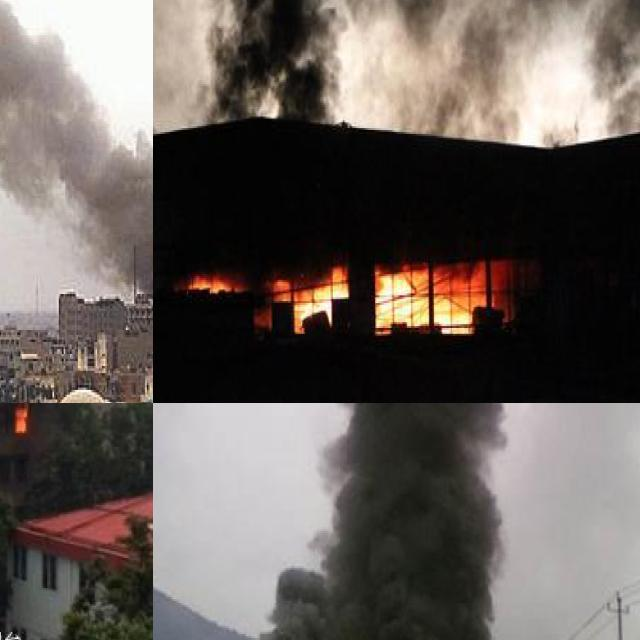fire: (374, 257, 476, 334), (278, 265, 347, 326), (9, 403, 29, 432)
smoke: (153, 0, 640, 136), (247, 403, 513, 640), (0, 0, 153, 295)
